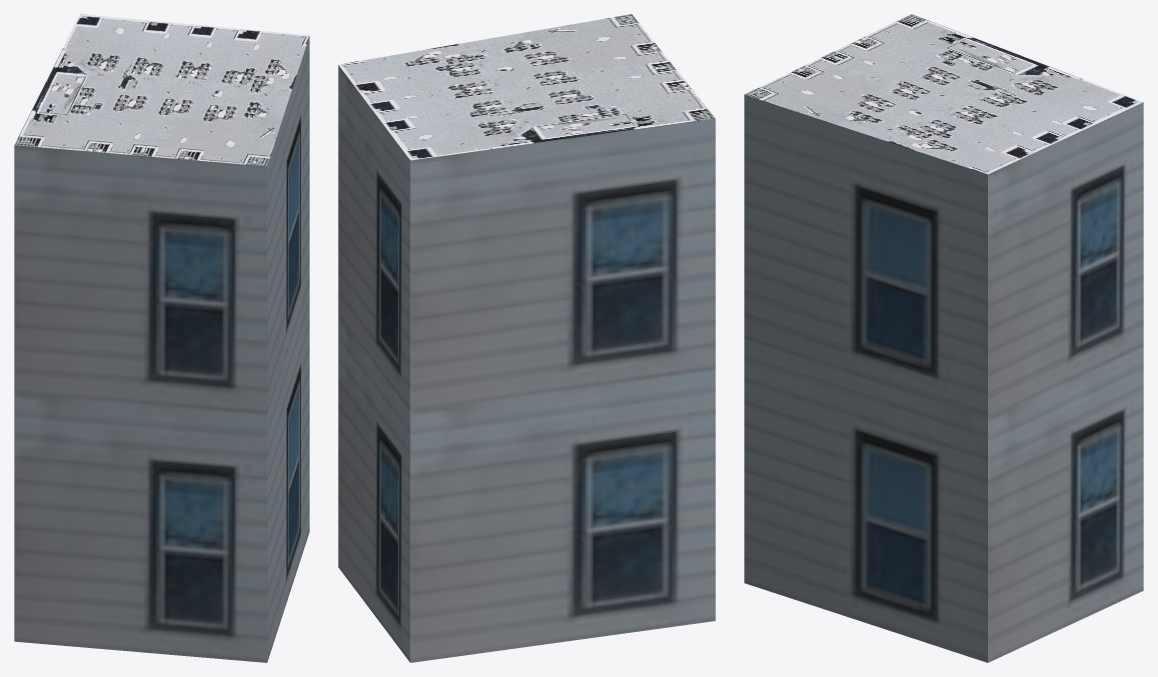
The model's file is ResTex__1618.fbx.
The picture shows the model from 3 angles, left to right: view 1: azimuth 30°, elevation 25°; view 2: azimuth 150°, elevation 25°; view 3: azimuth 270°, elevation 25°; orthographic projection. The views are drawn at different scales.
Parts seen in each view (by area): view 1: CityEngineMaterial_18_m, CityEngineMaterial_2_m; view 2: CityEngineMaterial_18_m, CityEngineMaterial_2_m; view 3: CityEngineMaterial_18_m, CityEngineMaterial_2_m.
Part boxes in pixels (<box>): CityEngineMaterial_18_m: <box>14,36,309,662</box>; CityEngineMaterial_2_m: <box>14,14,309,166</box>; CityEngineMaterial_18_m: <box>338,65,715,662</box>; CityEngineMaterial_2_m: <box>338,14,715,160</box>; CityEngineMaterial_18_m: <box>744,94,1143,662</box>; CityEngineMaterial_2_m: <box>744,14,1143,174</box>.
Bounding box in the file's own units: 4.23 × 6 × 4.45.
Materials: 2 (2 with a texture image).
